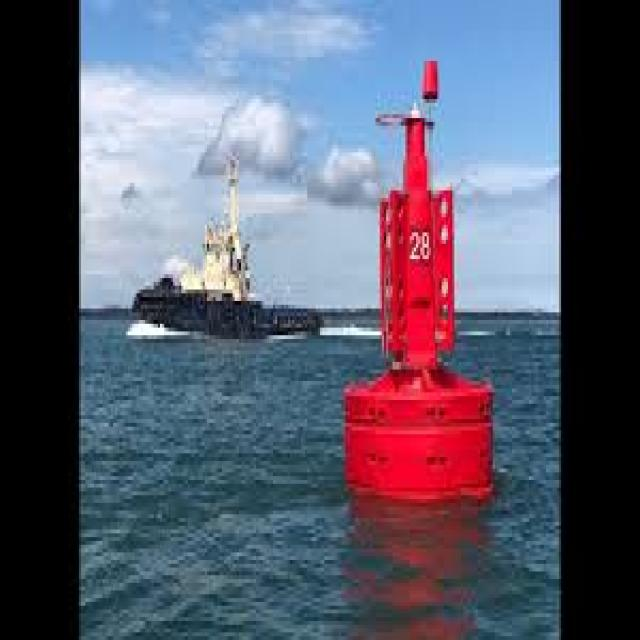2.1 lateral mark -P-: (331, 19, 505, 521)
